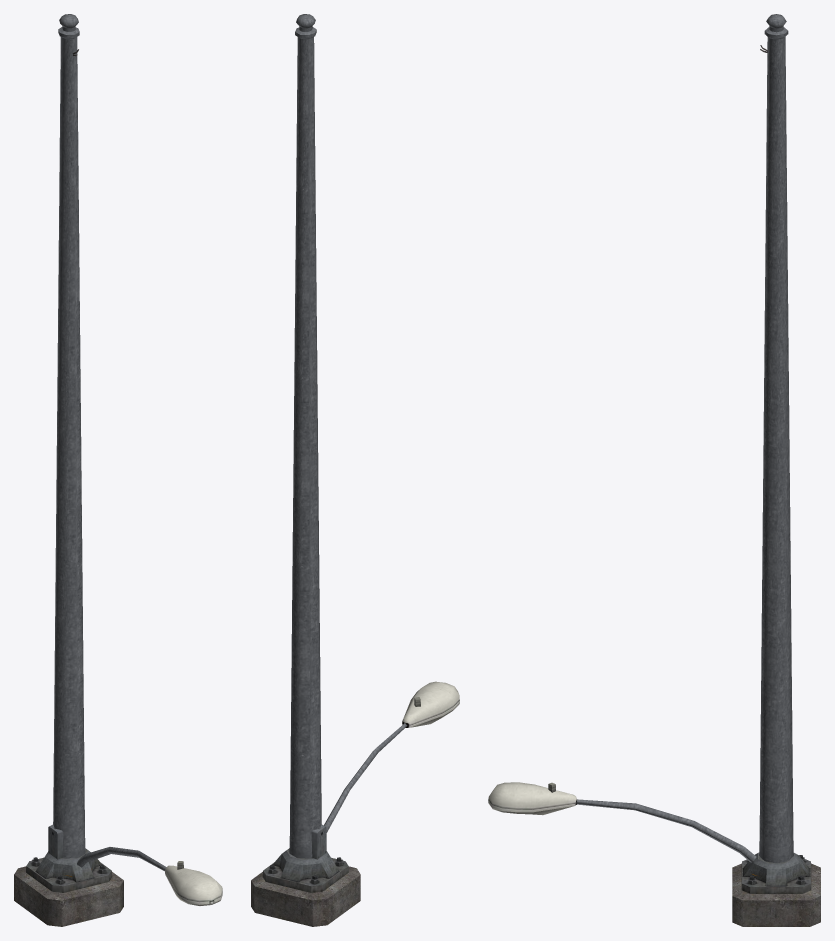
The model's file is lamp-b.glb.
3 renders of one model, left to right at view 1: azimuth 30°, elevation 25°; view 2: azimuth 150°, elevation 25°; view 3: azimuth 270°, elevation 25°, orthographic.
Bounding box in the file's own units: 0.7547 × 8.39 × 2.83.
4 materials, 4 textured.
